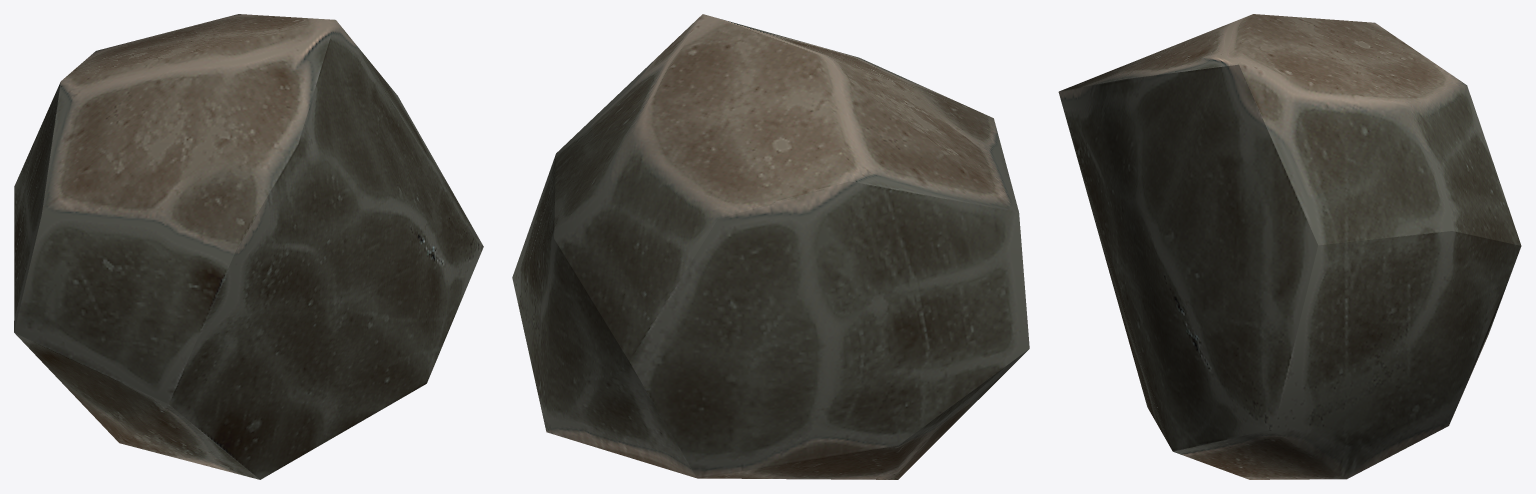
File: pebble_1.fbx
The picture shows the model from 3 angles, left to right: view 1: azimuth 30°, elevation 25°; view 2: azimuth 150°, elevation 25°; view 3: azimuth 270°, elevation 25°; orthographic projection. The views are drawn at different scales.
Parts seen in each view (by area): view 1: pebble_1; view 2: pebble_1; view 3: pebble_1.
Boxes of the visible parts, x1=… form: pebble_1: x1=14, y1=14, x2=483, y2=479; pebble_1: x1=512, y1=14, x2=1029, y2=479; pebble_1: x1=1058, y1=14, x2=1521, y2=479.
Bounding box in the file's own units: 0.4676 × 0.3761 × 0.3845.
